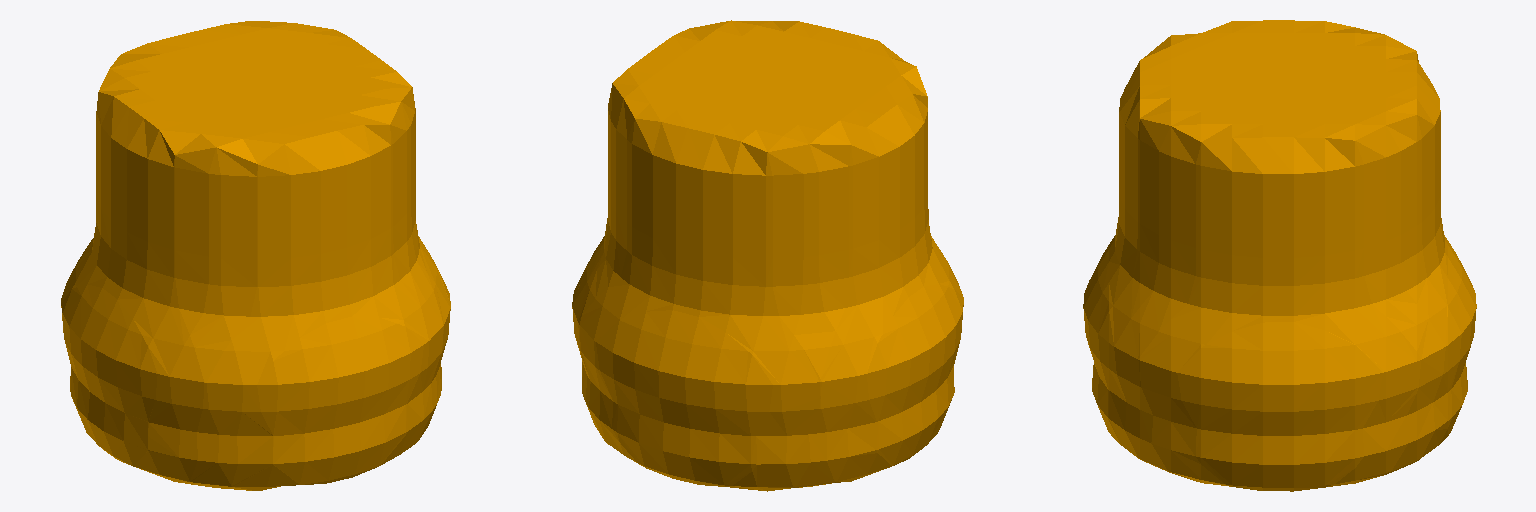
The robot description file, URDF, robot "cylinder_../../meshes/cylinders/cylinder_98.stl":
<?xml version="1.0" encoding="utf-8"?>  <robot name="cylinder_../../meshes/cylinders/cylinder_98.stl">   <link name="cylinder_../../meshes/cylinders/cylinder_98.stl">     <visual>       <geometry>         <mesh filename="../meshes/cylinders/cylinder_98.stl" scale="1 1 1"/>       </geometry>     </visual>     <collision>       <geometry>         <mesh filename="../meshes/cylinders/cylinder_98.stl" scale="1 1 1"/>       </geometry>     </collision>     <inertial>        <origin         xyz="0 0 0"         rpy="0 0 0" />       <mass value="0.15266749296283658"/>       <origin rpy="0 0 0" xyz="0 0 0"/>       <inertia ixx="7.669863625791475e-05" ixy="-1.1468771191895271e-08" ixz="6.50268171113843e-09" iyy="7.670073754263407e-05" iyz="8.658377704042018e-09" izz="6.254125029807613e-05"/>     </inertial>   </link>  </robot>

--- What the picture shows (computed from the rendered views, not written in the file) ---
Views: 3 orthographic renders of the robot side by side, from view 1: azimuth 30°, elevation 25°; view 2: azimuth 150°, elevation 25°; view 3: azimuth 270°, elevation 25°.
Model cylinder_../../meshes/cylinders/cylinder_98.stl with 1 links and 0 joints (none), rooted at cylinder_../../meshes/cylinders/cylinder_98.stl, posed every joint at zero.
Visible links, largest first — view 1: cylinder_../../meshes/cylinders/cylinder_98.stl; view 2: cylinder_../../meshes/cylinders/cylinder_98.stl; view 3: cylinder_../../meshes/cylinders/cylinder_98.stl.
Boxes of the visible links, x1,y1,x2,y2 form: cylinder_../../meshes/cylinders/cylinder_98.stl: [61, 21, 450, 490]; cylinder_../../meshes/cylinders/cylinder_98.stl: [572, 20, 963, 491]; cylinder_../../meshes/cylinders/cylinder_98.stl: [1083, 20, 1476, 491].
Size in the robot's own frame: 0.0638 by 0.0638 by 0.0621 metres.
1 mesh visuals loaded from 1 distinct referenced files (1 binary STL).